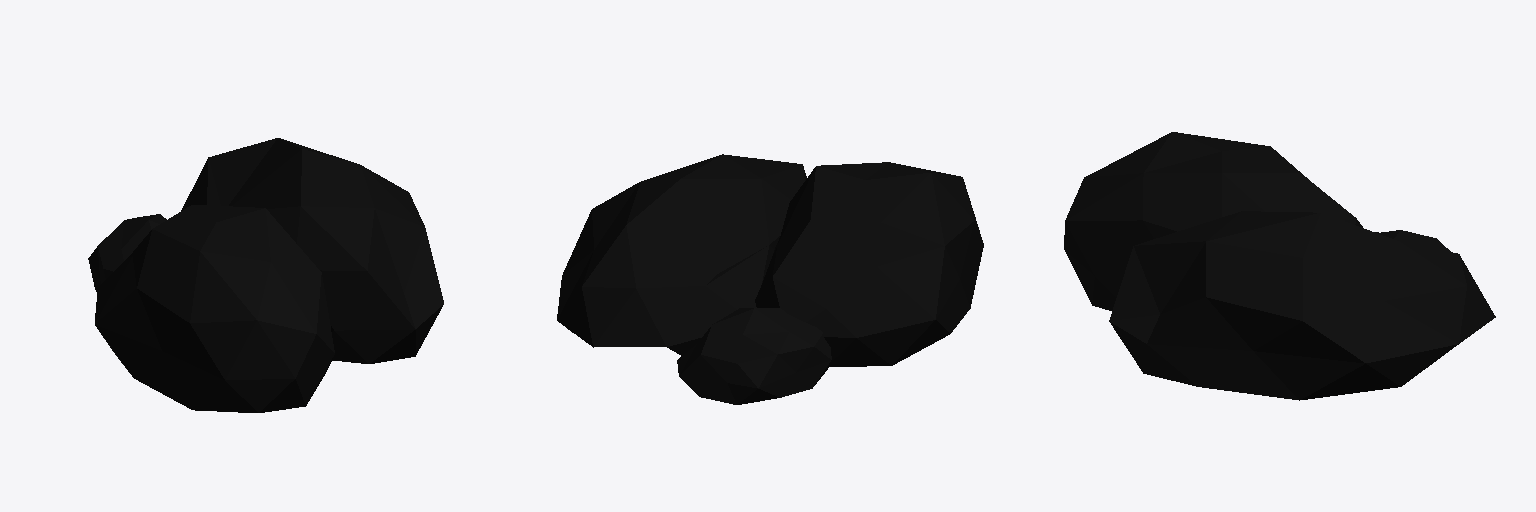
The model's file is keien.obj.
3 renders of one model, left to right at view 1: azimuth 30°, elevation 25°; view 2: azimuth 150°, elevation 25°; view 3: azimuth 270°, elevation 25°, orthographic.
Parts seen in each view (by area): view 1: Icosphere_Icosphere.001; view 2: Icosphere_Icosphere.001; view 3: Icosphere_Icosphere.001.
Part boxes in pixels (x1,y1,x2,y2): Icosphere_Icosphere.001: (88, 138, 443, 412); Icosphere_Icosphere.001: (557, 154, 983, 404); Icosphere_Icosphere.001: (1064, 132, 1495, 400).
Bounding box in the file's own units: 3.96 × 1.75 × 4.5.